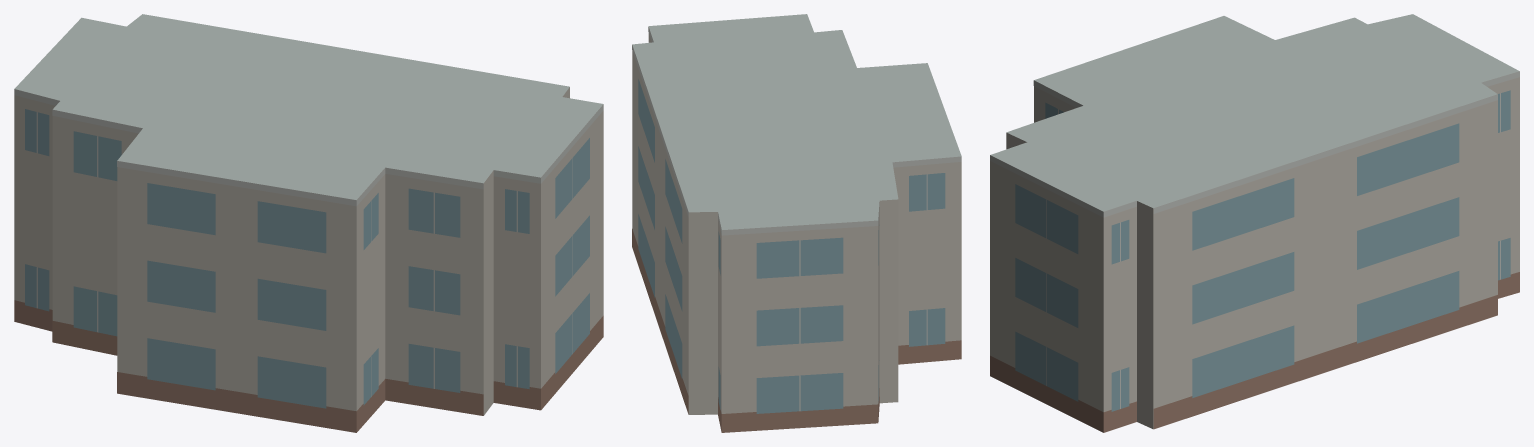
The model's file is survey-upis-32533461.glb.
3 renders of one model, left to right at view 1: azimuth 30°, elevation 25°; view 2: azimuth 150°, elevation 25°; view 3: azimuth 270°, elevation 25°, orthographic. The views are drawn at different scales.
Parts seen in each view (by area): view 1: survey-upis-32533461.tmp; view 2: survey-upis-32533461.tmp; view 3: survey-upis-32533461.tmp.
Part boxes in pixels (x1,y1,x2,y2): survey-upis-32533461.tmp: (14,14,603,432); survey-upis-32533461.tmp: (632,14,961,432); survey-upis-32533461.tmp: (990,14,1519,432).
Size of the model in its own units: 17.56 by 9.15 by 19.87.
